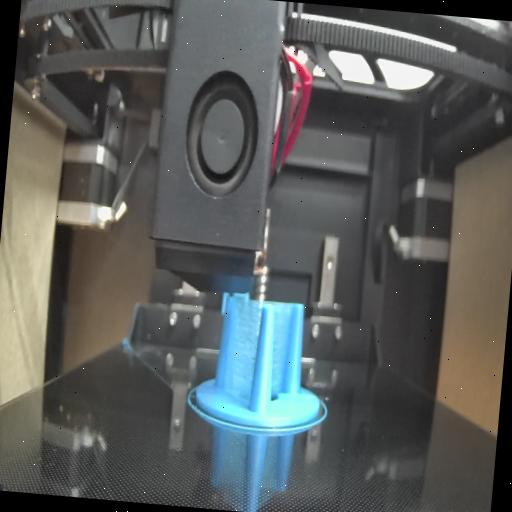stringing: (220, 298, 261, 409), (266, 300, 299, 406)
